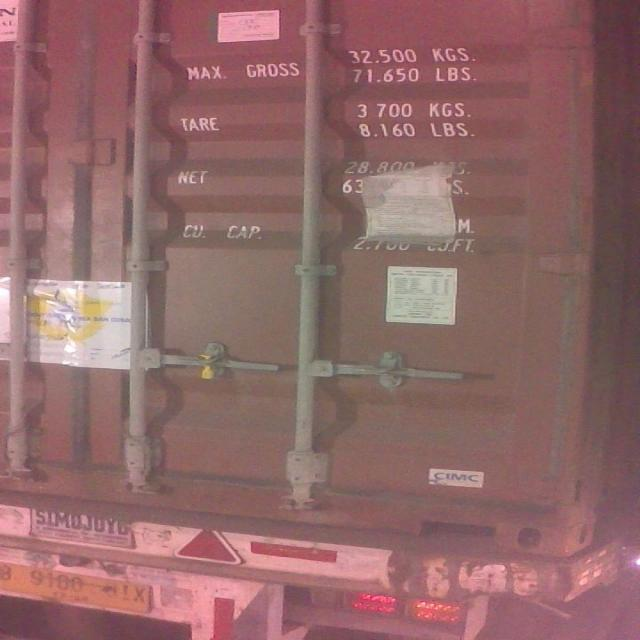seal: (194, 350, 224, 380)
